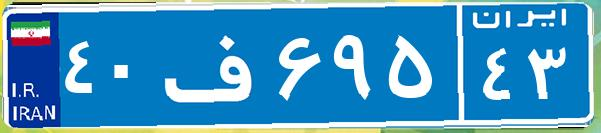0: (110, 28, 158, 105)
3: (525, 38, 570, 115)
4: (57, 26, 110, 107), (475, 38, 525, 113)
5: (385, 28, 445, 110)
6: (273, 28, 330, 110)
9: (330, 28, 385, 110)
ف: (158, 15, 273, 115)
